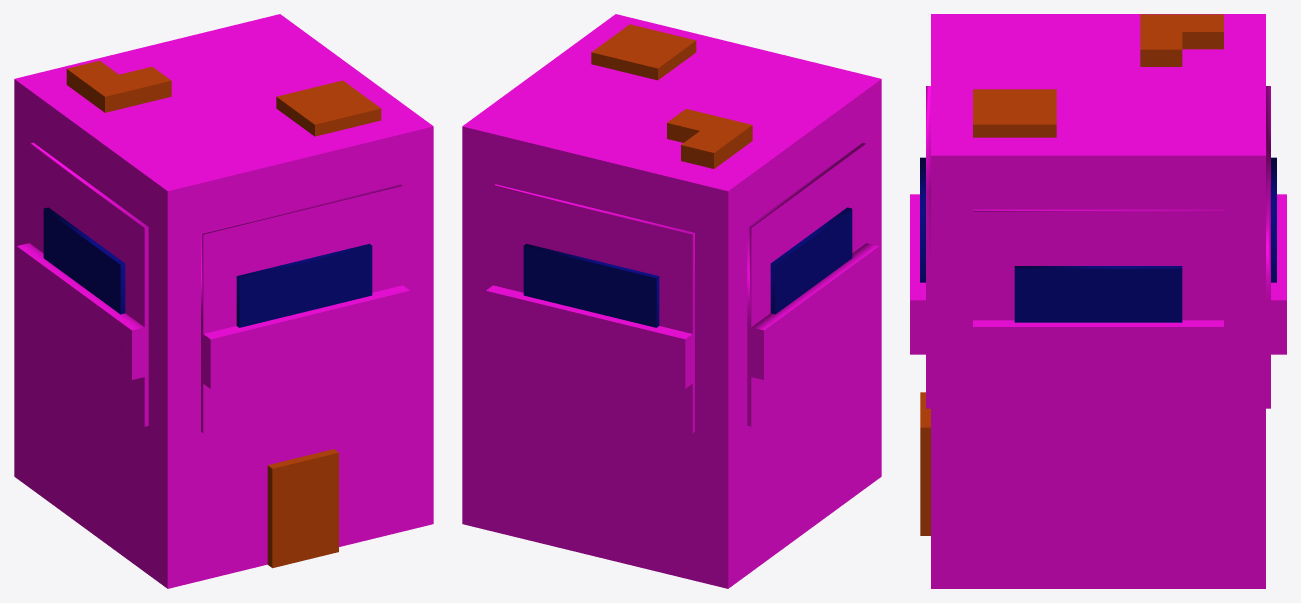
File: LargeHouseCube.fbx
3 views of the same model, side by side, from view 1: azimuth 30°, elevation 25°; view 2: azimuth 150°, elevation 25°; view 3: azimuth 270°, elevation 25° (orthographic). The views are drawn at different scales.
Parts seen in each view (by area): view 1: pCube3; view 2: pCube3; view 3: pCube3.
Boxes of the visible parts, x1=… form: pCube3: x1=14, y1=14, x2=433, y2=588; pCube3: x1=462, y1=14, x2=881, y2=588; pCube3: x1=910, y1=14, x2=1286, y2=588.
Size of the model in its own units: 78.78 by 104 by 78.78.
